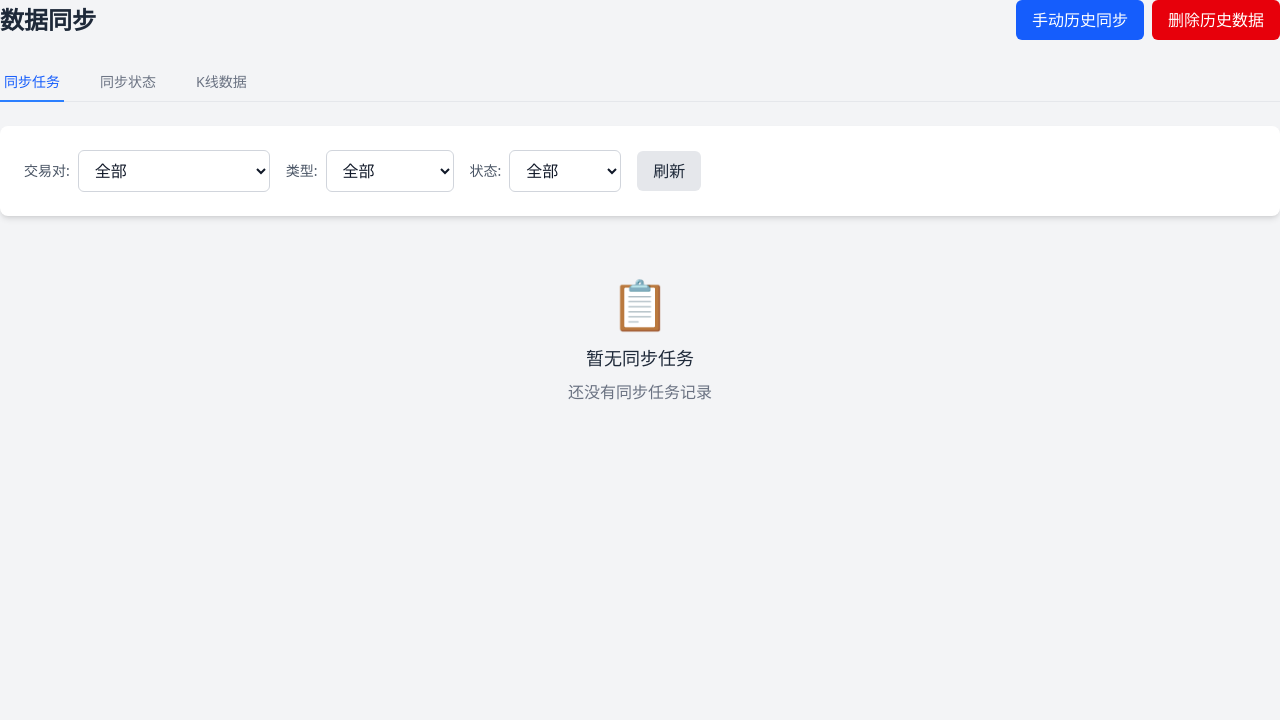
Test: SyncTaskList - 时间范围输入与校验 › 历史同步弹窗 › 点击手动历史同步按钮应打开弹窗
The image size is (1280, 720).
Step 1. Click the button "手动历史同步" → (1080, 20), box x1=1016 y1=0 x2=1144 y2=40
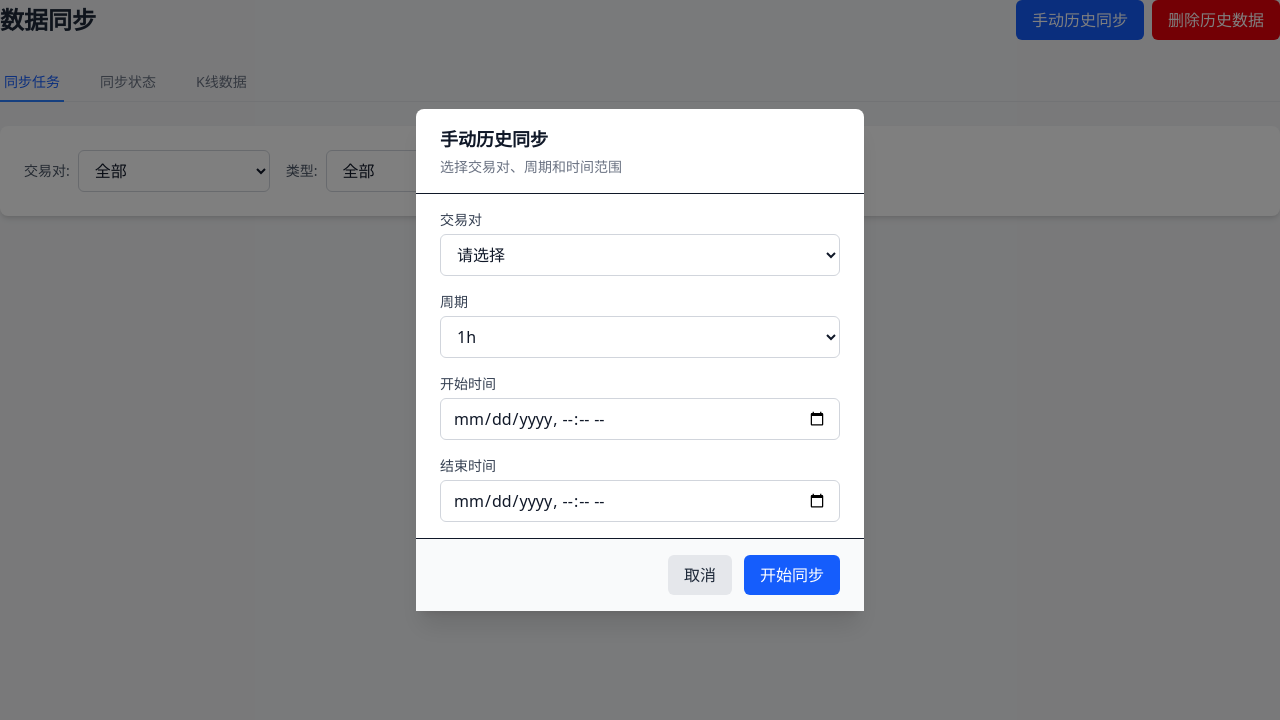
Result: the text "选择交易对、周期和时间范围" is shown at x1=440 y1=157 x2=622 y2=176
